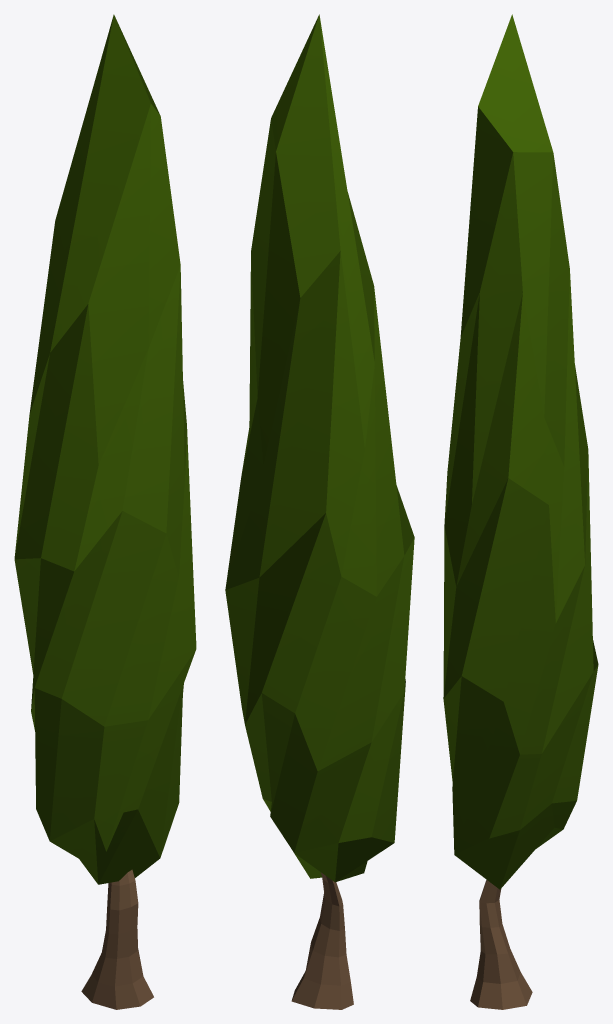
The picture shows the model from 3 angles, left to right: view 1: azimuth 30°, elevation 25°; view 2: azimuth 150°, elevation 25°; view 3: azimuth 270°, elevation 25°; orthographic projection.
Parts seen in each view (by area): view 1: coniferous_trees_19; view 2: coniferous_trees_19; view 3: coniferous_trees_19.
Part boxes in pixels (x1,y1,x2,y2): coniferous_trees_19: (14,14,196,1009); coniferous_trees_19: (225,14,414,1009); coniferous_trees_19: (443,14,598,1009).
Bounding box in the file's own units: 0.6076 × 3.68 × 0.5248.
